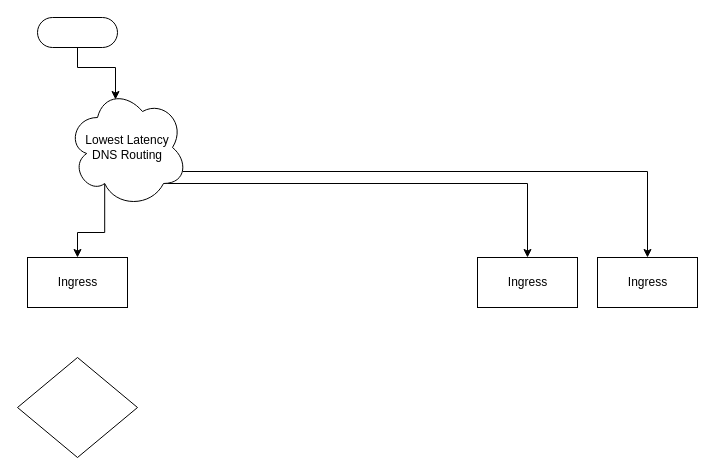
This 715x475 diagram has some shape labels left out. Here are the shapes that lost their labels. From the top down, the centre of each, then its label:
At point (77, 32): "Client".
At point (77, 407): "Media Type Selector".
